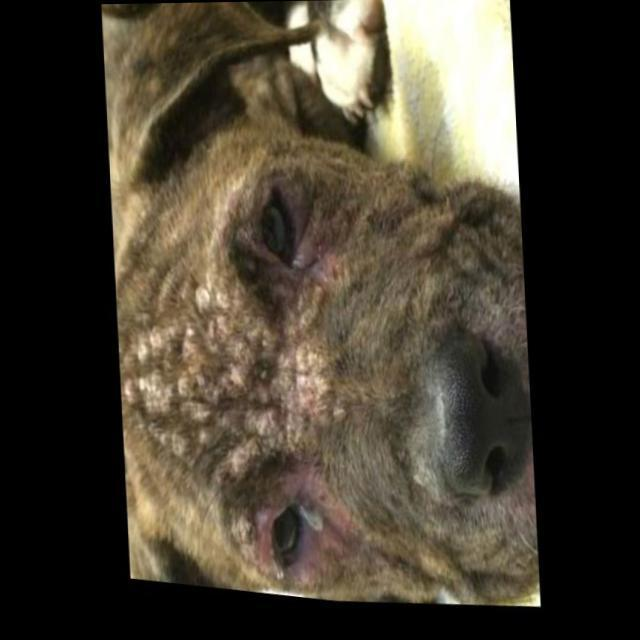mange: (125, 224, 393, 494)
